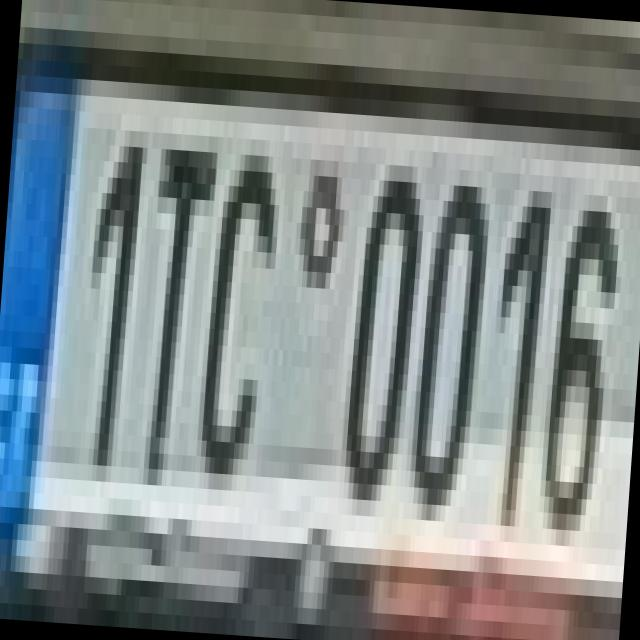0: (325, 130, 424, 486), (396, 134, 490, 490)
1: (59, 95, 154, 467), (460, 139, 554, 511)
6: (524, 175, 628, 532)
9: (256, 124, 350, 480)
C: (186, 120, 284, 476)
T: (116, 115, 220, 472)
